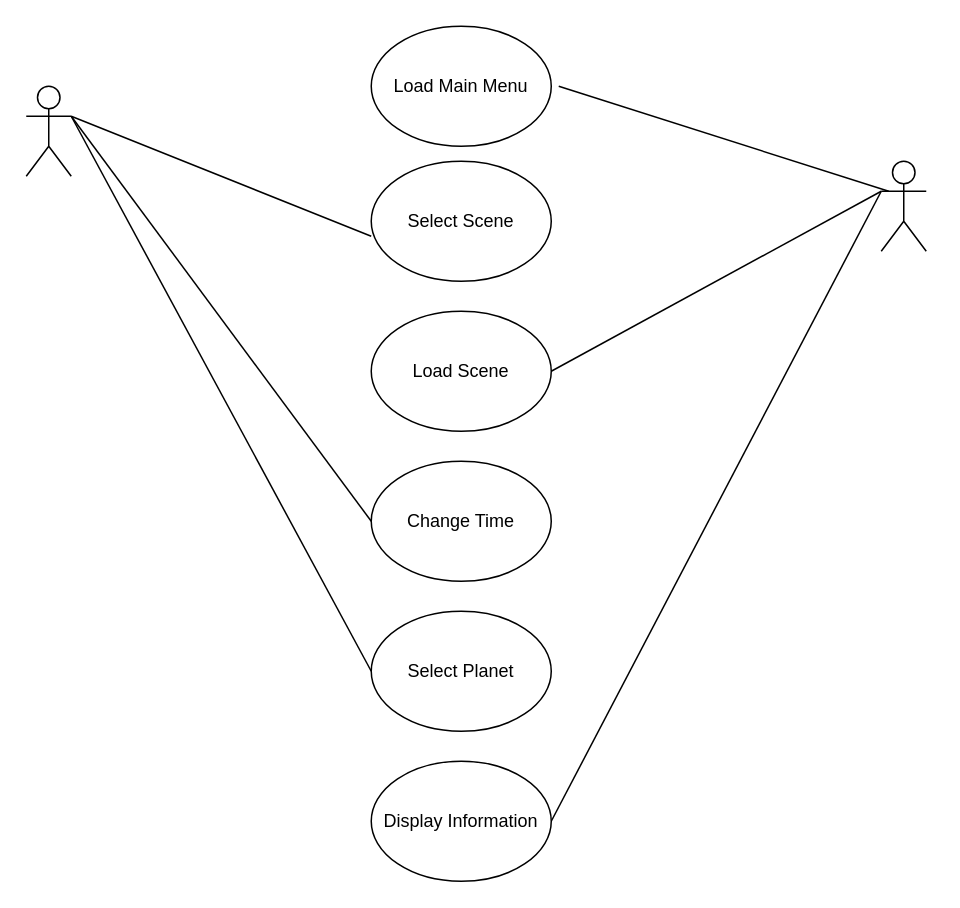
Image size: 960x908. Some labels were removed from this diagram. Each missing label, with the box of its shape:
System: (880, 160, 926, 251)
User: (25, 85, 71, 176)
